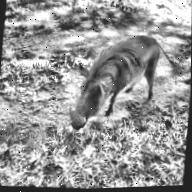boar: (61, 19, 175, 144)
